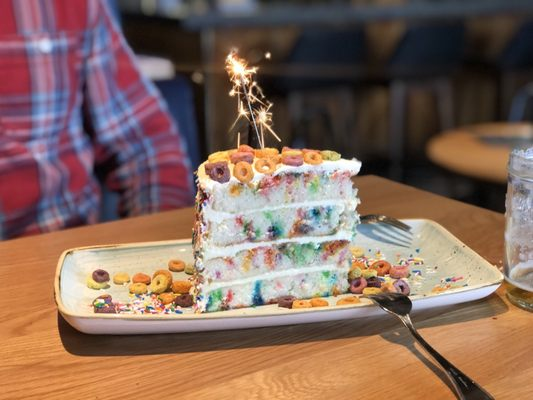burger: (364, 288, 500, 400)
pizza: (504, 137, 533, 303)
